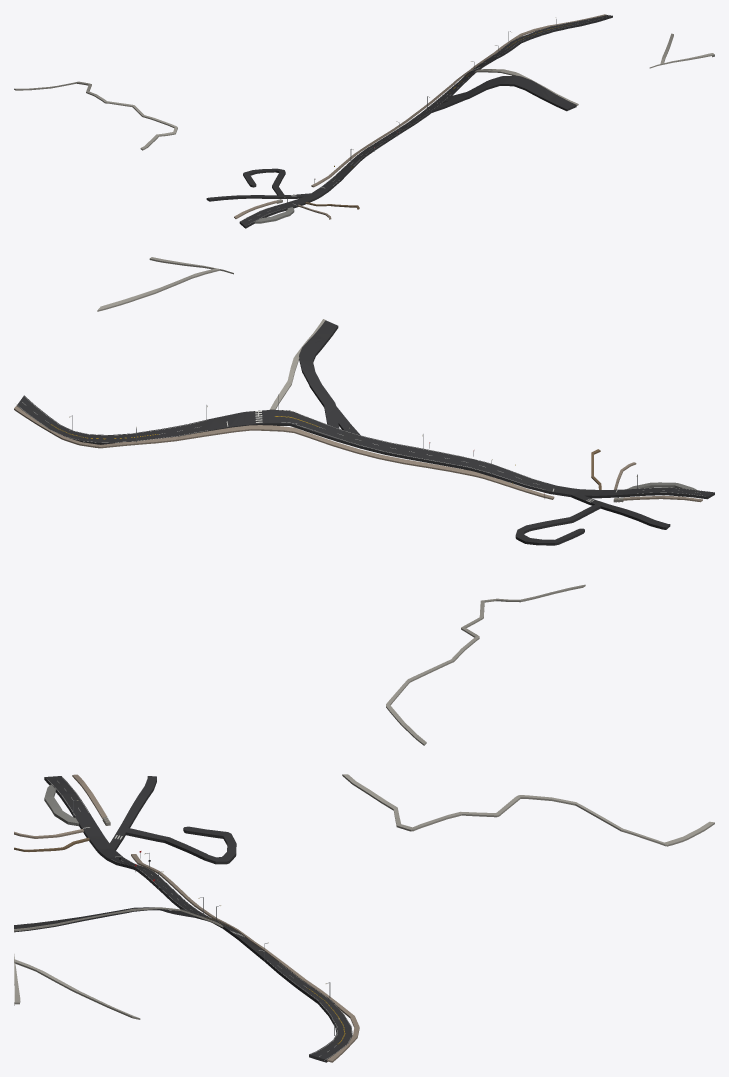
File: 17-109450-59481.ce2f7eba.glb
The picture shows the model from 3 angles, top to bottom: view 1: azimuth 30°, elevation 25°; view 2: azimuth 150°, elevation 25°; view 3: azimuth 270°, elevation 25°; orthographic projection. The views are drawn at different scales.
Bounding box in the file's own units: 295 × 63.58 × 268.
